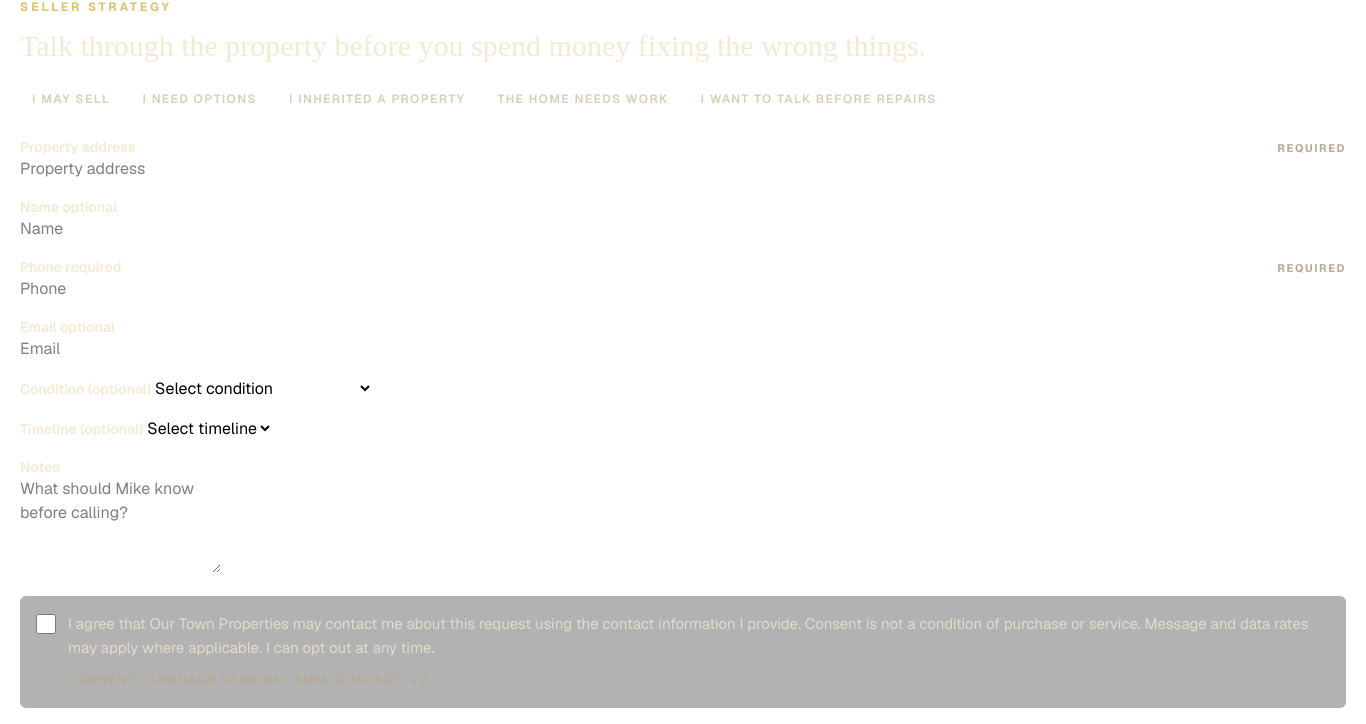
Test: client replay analytics suppression › keeps seller replay success visible without client lead_created analytics
In the field labelled "Property address": x=129, y=168 [20, 156, 238, 180], type "456 Replay Pine, Wilson NC"
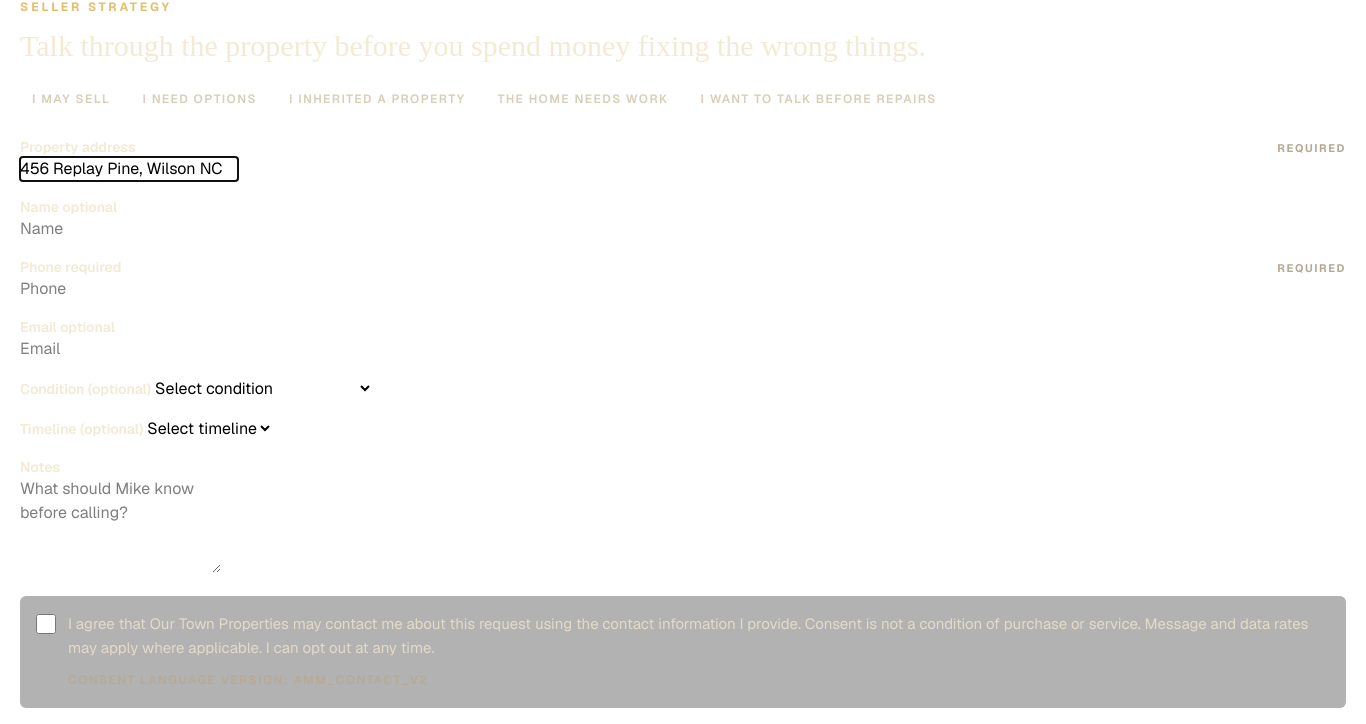
In the field labelled "Phone required": x=129, y=288 [20, 276, 238, 300], type "2525550199"
(page scrolled)
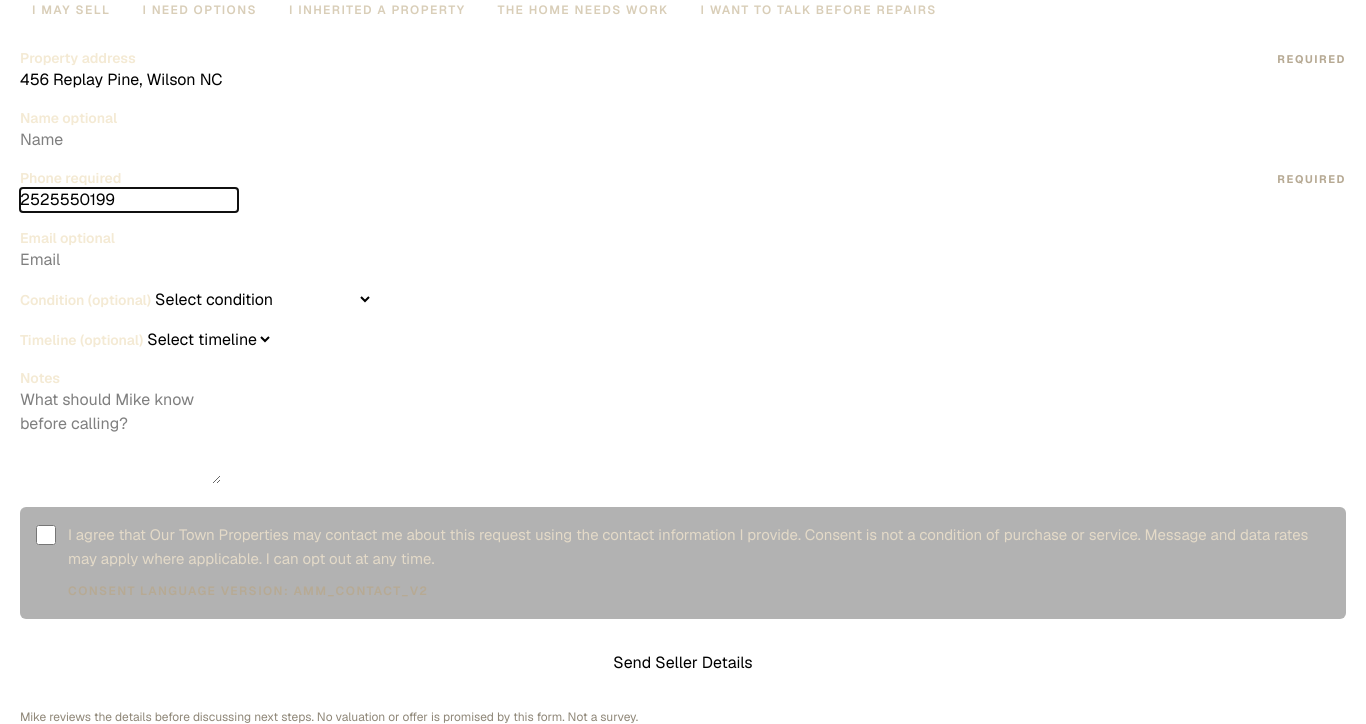
Click the button "Send Seller Details": x=683, y=662 [20, 634, 1346, 690]
(page scrolled)
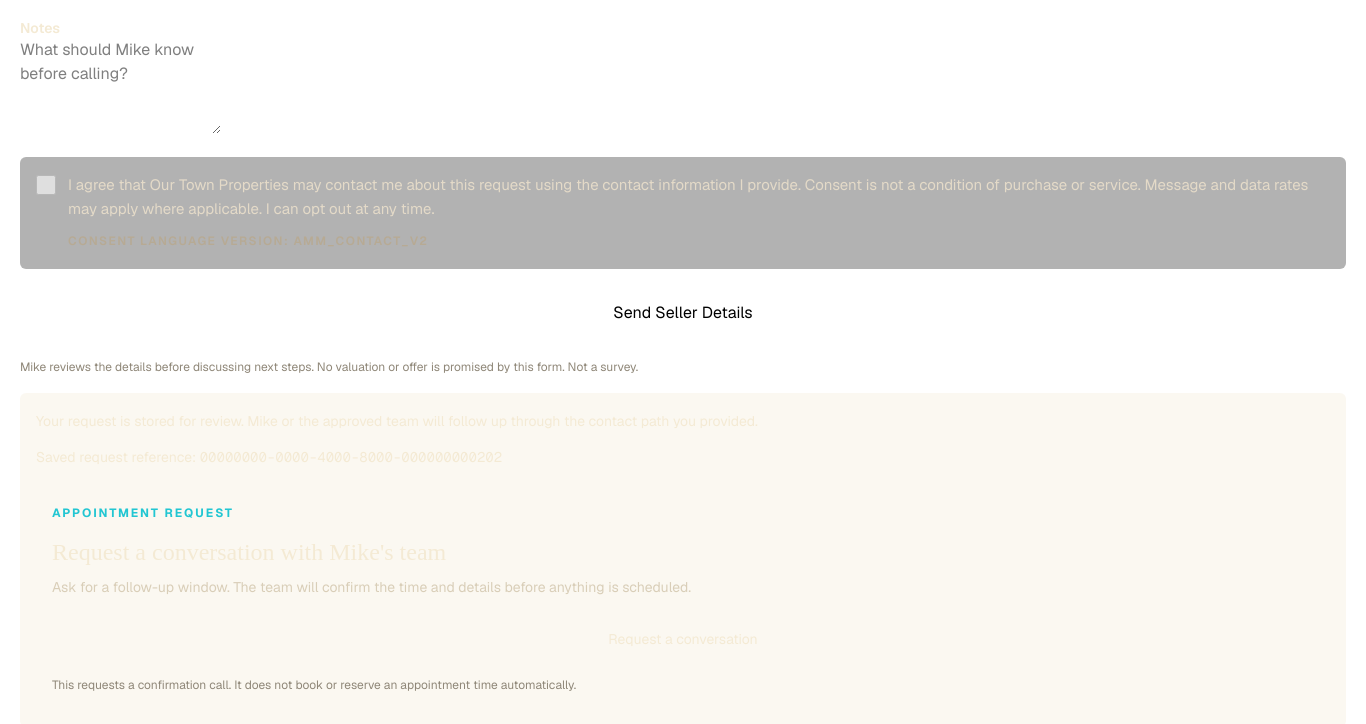
Now the text "Your request is stored for review. Mike or the approved team will follow up through the contact path you provided." is shown, box [36, 412, 758, 430]
Now the button "Request a conversation" is shown, box [52, 614, 1314, 662]
